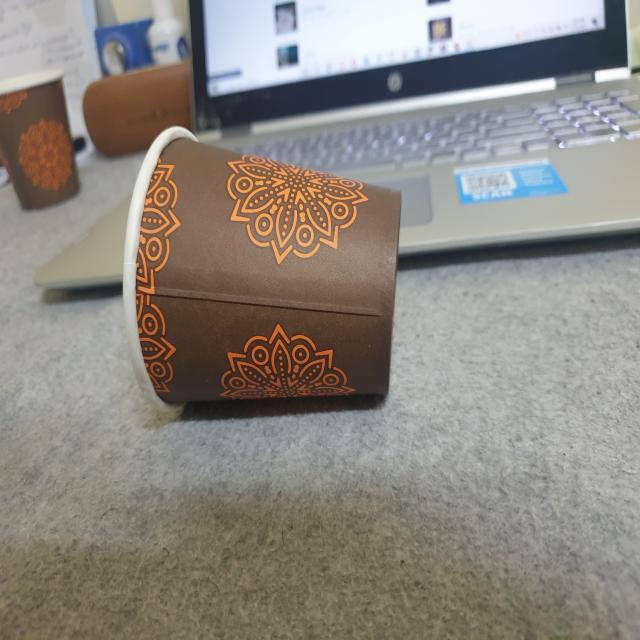cups: (118, 116, 404, 416), (0, 60, 83, 224)
